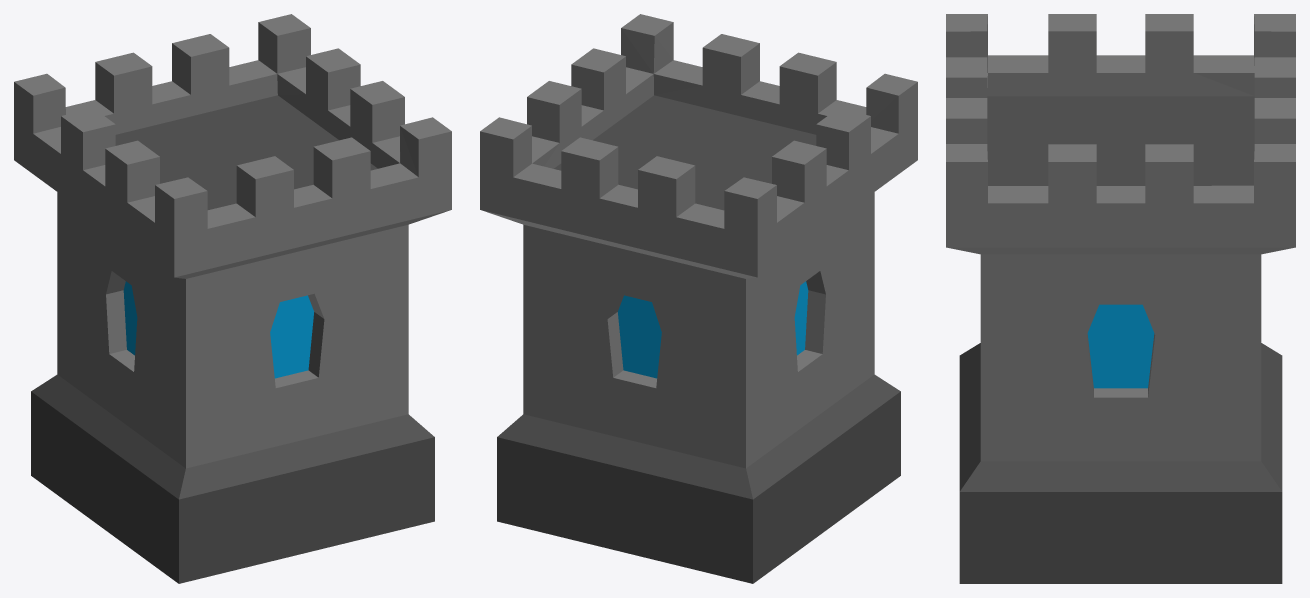
Rendered from CastleTower.fbx.
3 renders of one model, left to right at view 1: azimuth 30°, elevation 25°; view 2: azimuth 150°, elevation 25°; view 3: azimuth 270°, elevation 25°, orthographic. The views are drawn at different scales.
Visible parts, largest first — view 1: Cube; view 2: Cube; view 3: Cube.
Boxes of the visible parts, bbox=[...] form: Cube: bbox=[14, 14, 451, 583]; Cube: bbox=[480, 14, 917, 583]; Cube: bbox=[946, 14, 1295, 583].
Size of the model in its own units: 217 by 293 by 217.
